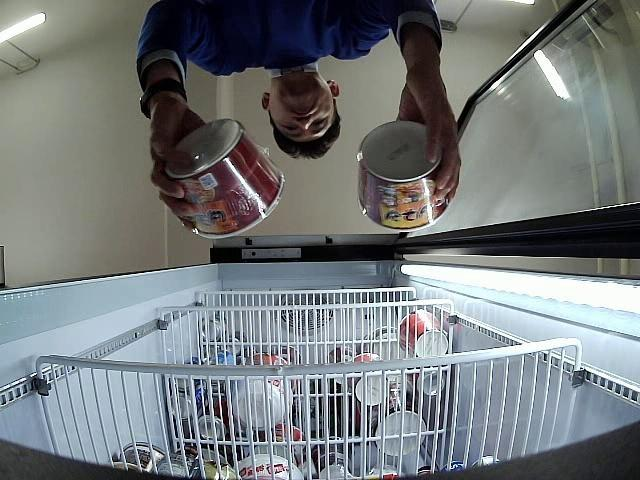05_nuguri_L: (163, 119, 285, 239), (357, 120, 450, 232)
